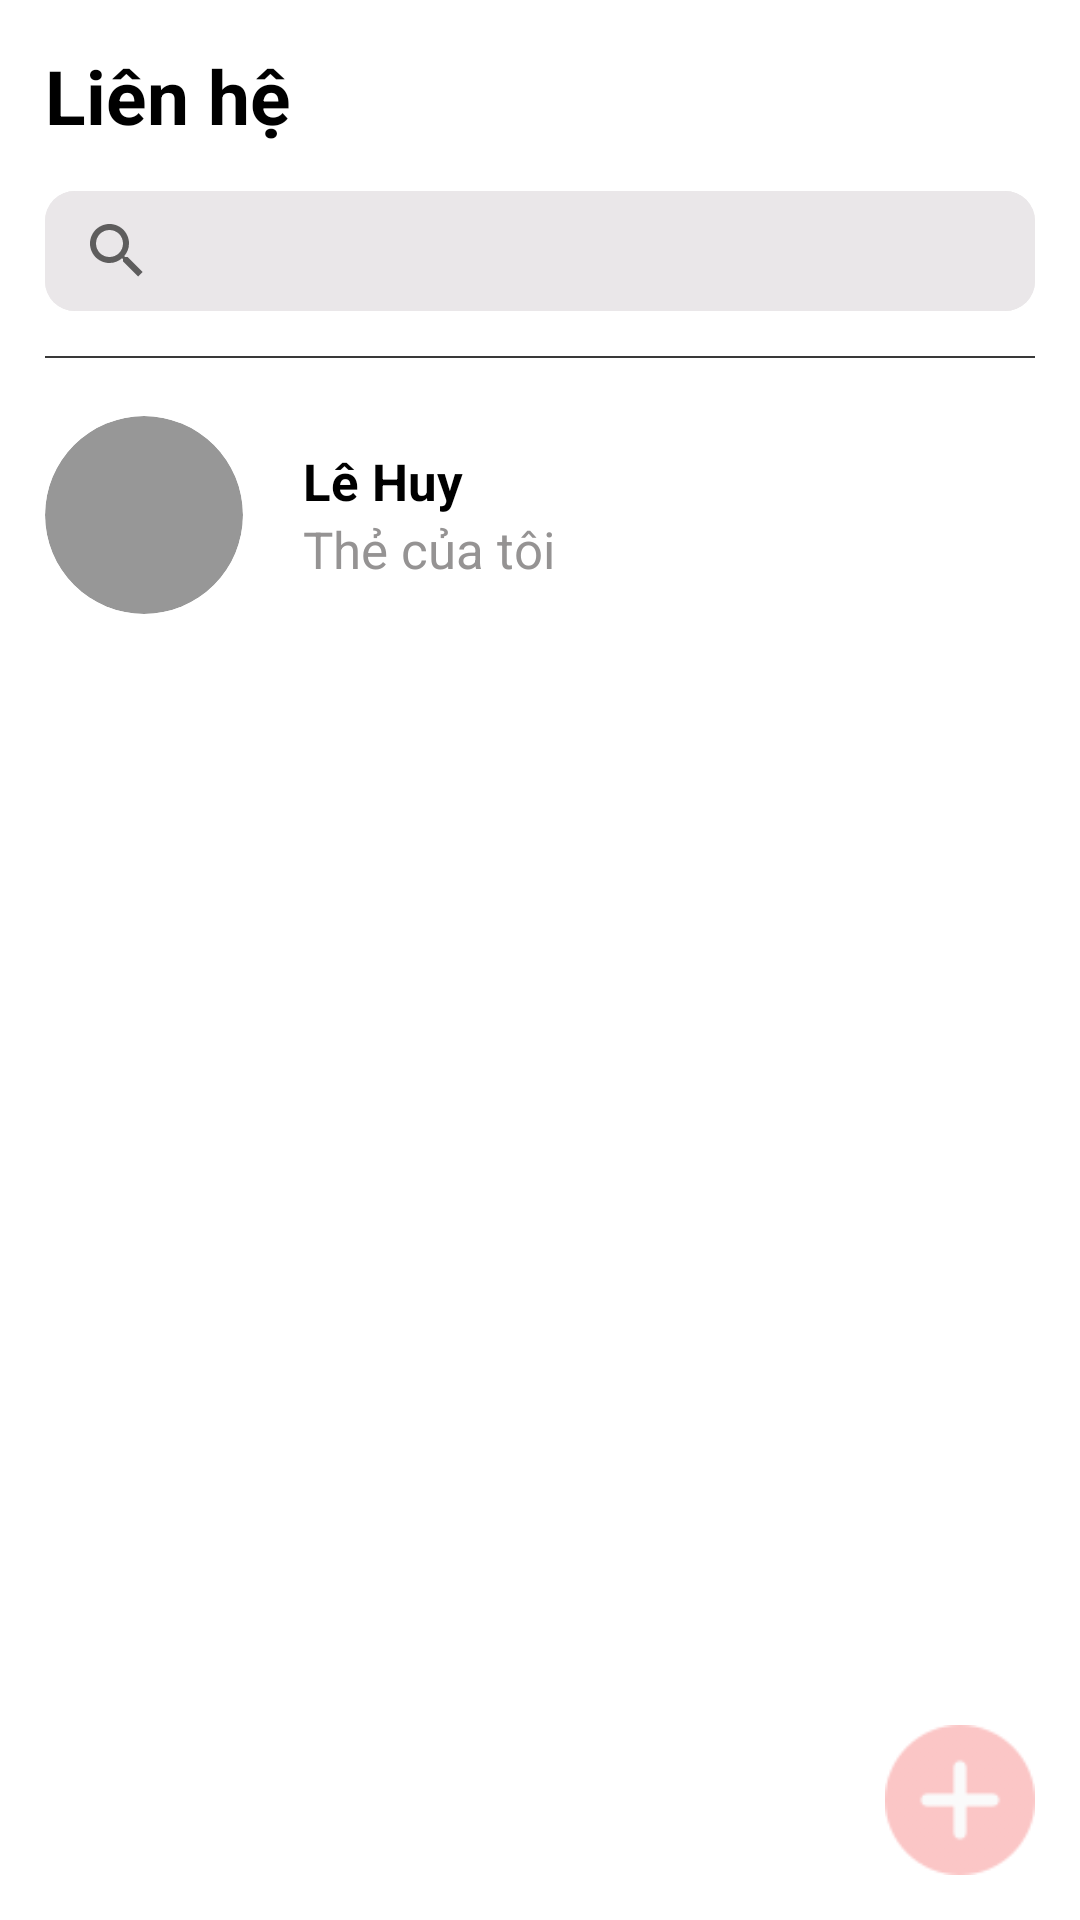

Icons on this 1080*1920 Android screen, each with its box as (x1, y1, x2, y2):
plus: (885, 1725, 1035, 1875)
